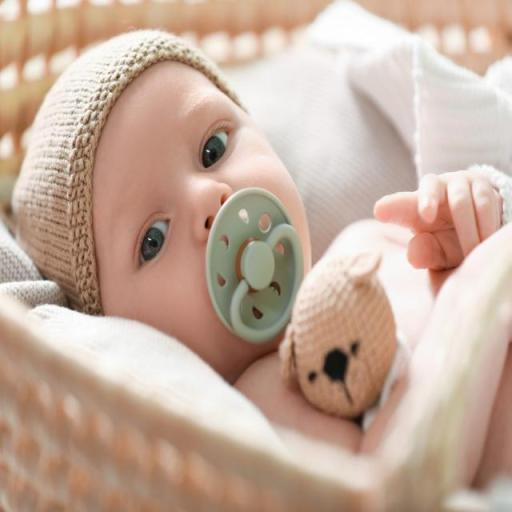baby: (14, 28, 512, 450)
